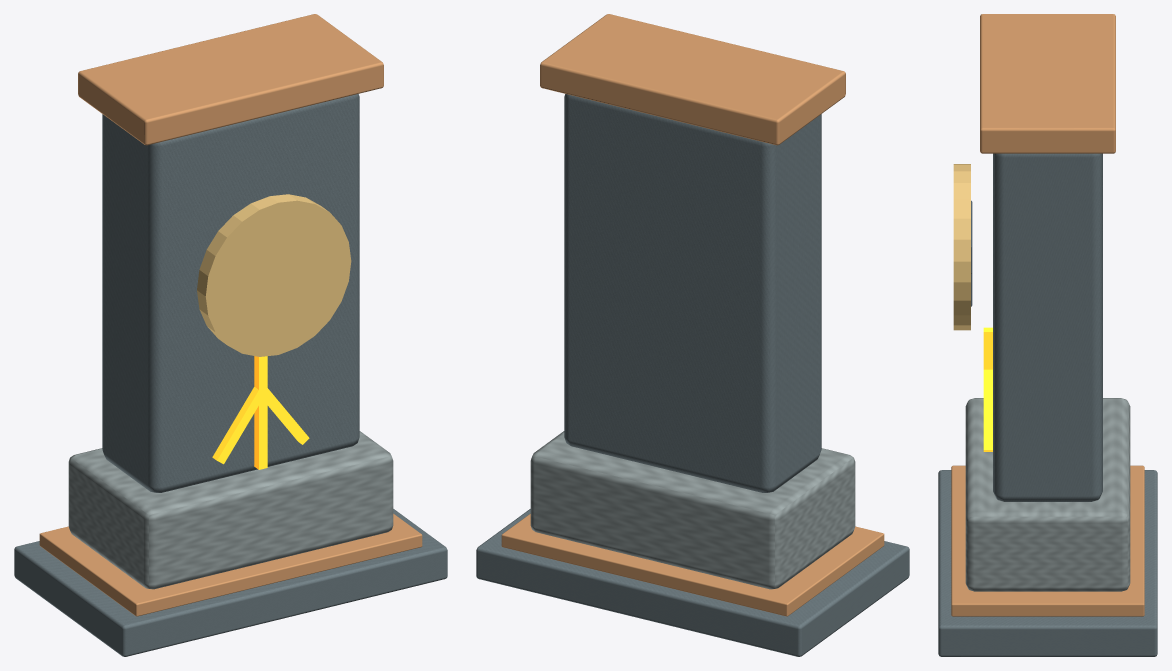
The model's file is dwarven-runeforge-dungeon-dwarven-runeforge-dungeon-gu-eac6202f__28616.glb.
3 renders of one model, left to right at view 1: azimuth 30°, elevation 25°; view 2: azimuth 150°, elevation 25°; view 3: azimuth 270°, elevation 25°, orthographic.
Visible parts, largest first — view 1: dwarven-runeforge-dungeon-guild-crest; view 2: dwarven-runeforge-dungeon-guild-crest; view 3: dwarven-runeforge-dungeon-guild-crest.
Part boxes in pixels (x1,y1,x2,y2): dwarven-runeforge-dungeon-guild-crest: (14, 14, 447, 656); dwarven-runeforge-dungeon-guild-crest: (476, 14, 909, 656); dwarven-runeforge-dungeon-guild-crest: (938, 14, 1157, 656).
Size of the model in its own units: 1.7 by 2.56 by 1.
Materials: 6 (2 with a texture image).
